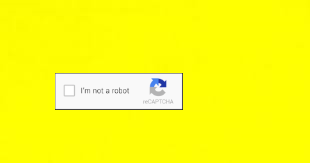captcha: (56, 74, 181, 109)
